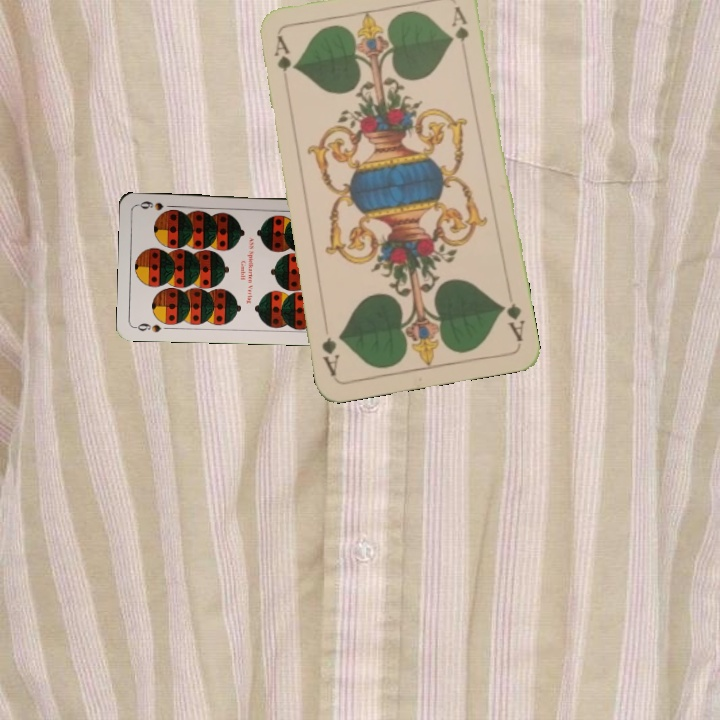GA: (270, 32, 294, 91), (497, 299, 527, 344)
S9: (131, 319, 164, 335)
